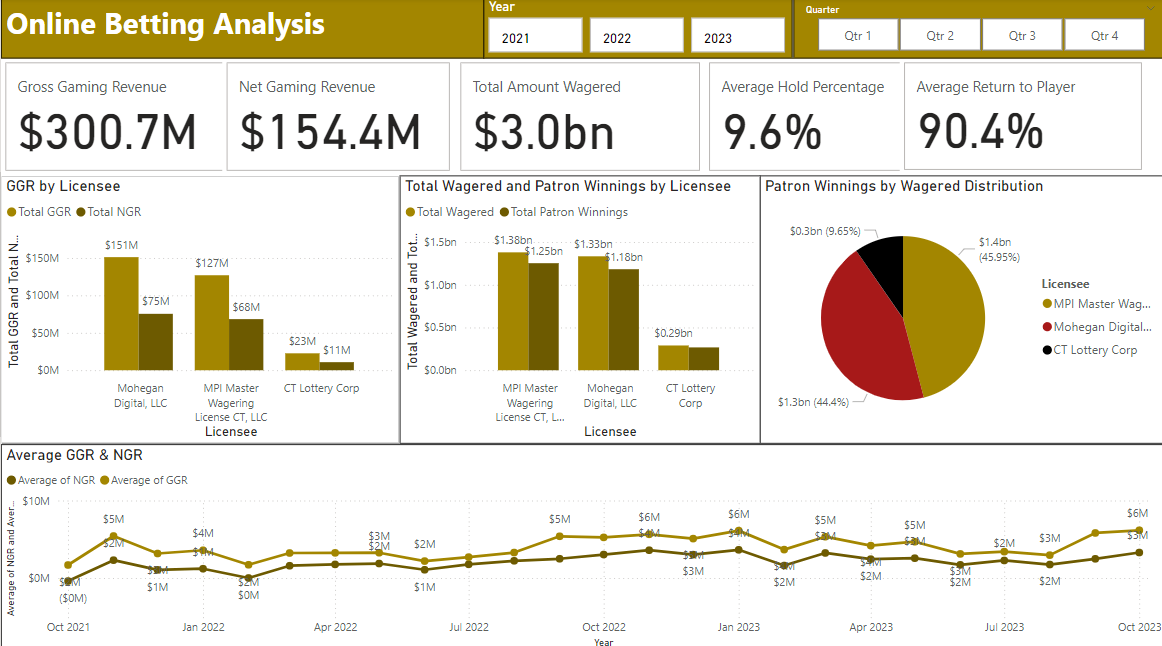

The dashboard page shown, as its layout file describes it:
{"tool":"powerbi","page":{"name":"Overall Analysis","canvas":[1280,720],"ordinal":0},"visuals":[{"type":"clusteredColumnChart","title":"GGR by Licensee","fields":{"Y":["Sum(online_bet online_sports_betting.GGR)","Sum(online_bet online_sports_betting.NGR)"],"Category":["online_bet online_sports_betting.Licensee"]},"box":[0,195.5,437.7,294.7],"z":0},{"type":"cardVisual","fields":{"Data":["Sum(online_bet online_sports_betting.GGR)"]},"box":[0,66.1,250.9,129.4],"z":1},{"type":"cardVisual","fields":{"Data":["Sum(online_bet online_sports_betting.NGR)"]},"box":[243.2,66.1,255.8,129.4],"z":2},{"type":"cardVisual","fields":{"Data":["Sum(online_bet online_sports_betting.Wag)"]},"box":[499,66.1,273.3,129.4],"z":3},{"type":"cardVisual","fields":{"Data":["Avg(online_bet online_sports_betting.Hold_pct)"]},"box":[772.3,66.1,236.4,129.4],"z":4},{"type":"cardVisual","fields":{"Data":["Avg(online_bet online_sports_betting.Win_rate1)"]},"box":[1008.6,66.1,271.4,129.4],"z":5},{"type":"lineChart","title":"Average GGR & NGR","fields":{"Y":["Avg(online_bet online_sports_betting.NGR)","Avg(online_bet online_sports_betting.GGR)"],"Category":["online_bet online_sports_betting.date.Variation.Date Hierarchy.Year","online_bet online_sports_betting.date.Variation.Date Hierarchy.Quarter","online_bet online_sports_betting.date.Variation.Date Hierarchy.Month"]},"box":[0,490.2,1280,229.5],"z":6},{"type":"textbox","box":[0,0,530.1,66.1],"z":7},{"type":"pieChart","title":"Patron Winnings by Wagered Distribution","fields":{"Category":["online_bet online_sports_betting.Licensee"],"Y":["Sum(online_bet online_sports_betting.Wag)"]},"box":[833.6,195.5,446.4,294.7],"z":8},{"type":"advancedSlicerVisual","fields":{"Values":["online_bet online_sports_betting.date.Variation.Date Hierarchy.Year"]},"box":[530.1,0,339.5,66.1],"z":9},{"type":"slicer","fields":{"Values":["online_bet online_sports_betting.date.Variation.Date Hierarchy.Quarter"]},"box":[869.5,0,410.5,66.1],"z":10},{"type":"clusteredColumnChart","title":"Total Wagered and Patron Winnings by Licensee","fields":{"Y":["Sum(online_bet online_sports_betting.Wag)","Sum(online_bet online_sports_betting.Patron_win)"],"Category":["online_bet online_sports_betting.Licensee"]},"box":[437.7,195.5,395.9,294.7],"z":11}]}

Visuals, with their boxes in screenshot pixels (x1, y1, x2, y2), scaled from the page's 1280x720 canvas onto the 1162x646 screenshot:
"GGR by Licensee" clusteredColumnChart: 0,175,397,440
cardVisual - Sum(online_bet online_sports_betting.GGR): 0,59,228,175
cardVisual - Sum(online_bet online_sports_betting.NGR): 221,59,453,175
cardVisual - Sum(online_bet online_sports_betting.Wag): 453,59,701,175
cardVisual - Avg(online_bet online_sports_betting.Hold_pct): 701,59,916,175
cardVisual - Avg(online_bet online_sports_betting.Win_rate1): 916,59,1161,175
"Average GGR & NGR" lineChart: 0,440,1161,645
textbox: 0,0,481,59
"Patron Winnings by Wagered Distribution" pieChart: 757,175,1161,440
advancedSlicerVisual - online_bet online_sports_betting.date.Variation.Date Hierarchy.Year: 481,0,789,59
slicer - online_bet online_sports_betting.date.Variation.Date Hierarchy.Quarter: 789,0,1161,59
"Total Wagered and Patron Winnings by Licensee" clusteredColumnChart: 397,175,757,440
